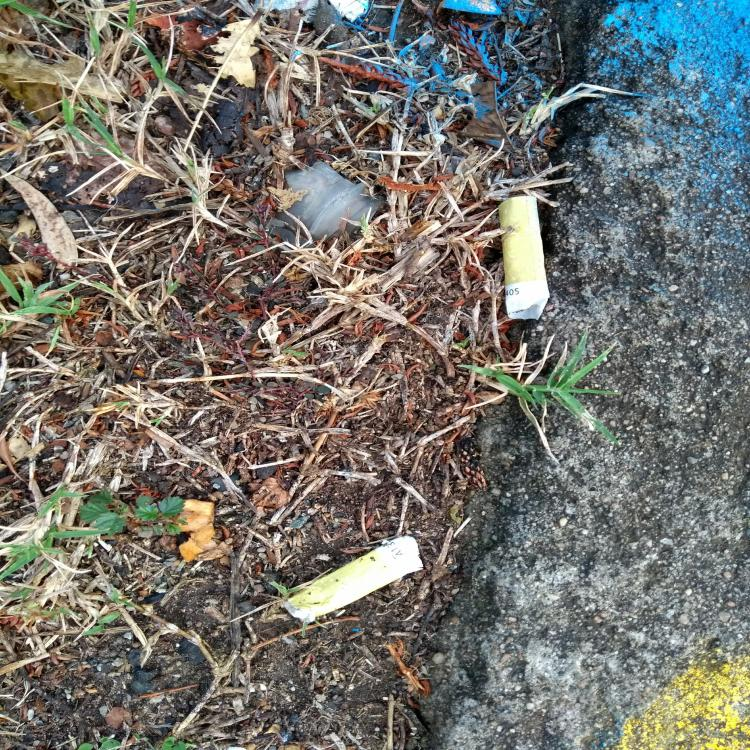Cigarette: (282, 536, 422, 622), (498, 196, 549, 319)
Other plastic wrapper: (275, 161, 380, 241)
